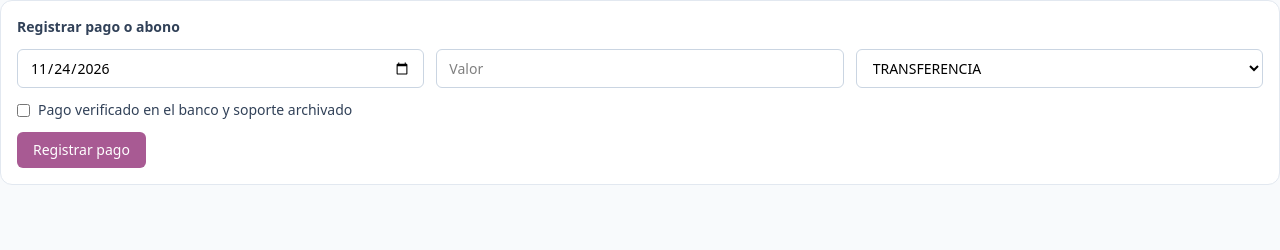
Test: PaymentForm: doble envío › tras un error el botón se recupera, se muestra el error y el reintento reutiliza la misma clave
The image size is (1280, 250).
Later steps or results of the test are not shown.
Type "5000" into the number field with placeholder "Valor". click: x=640, y=68
box: top-left (436, 49), bottom-right (844, 88)
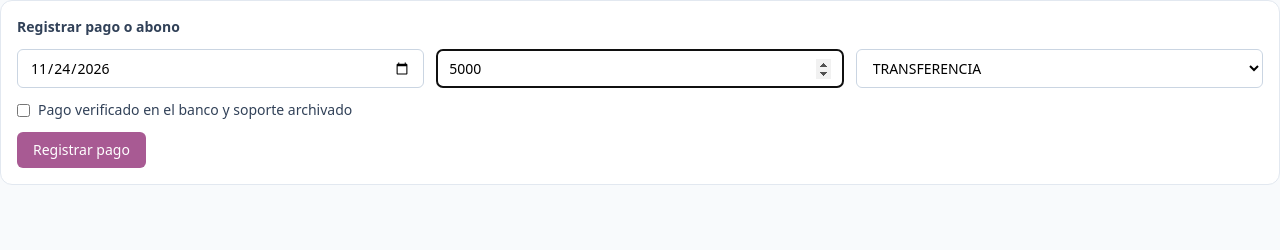
Click the button "Registrar pago". click: x=81, y=150
box: top-left (17, 132), bottom-right (146, 168)
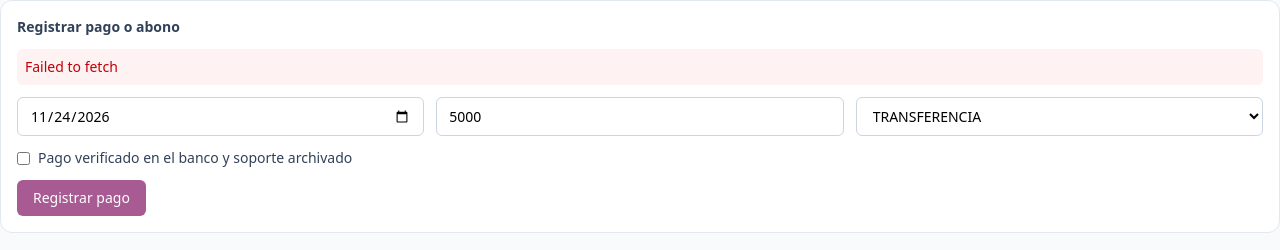
Expected: the button "Registrar pago" is enabled, top-left (17, 180), bottom-right (146, 216)
Expected: the text "Failed to fetch" is shown, top-left (17, 49), bottom-right (1263, 85)
